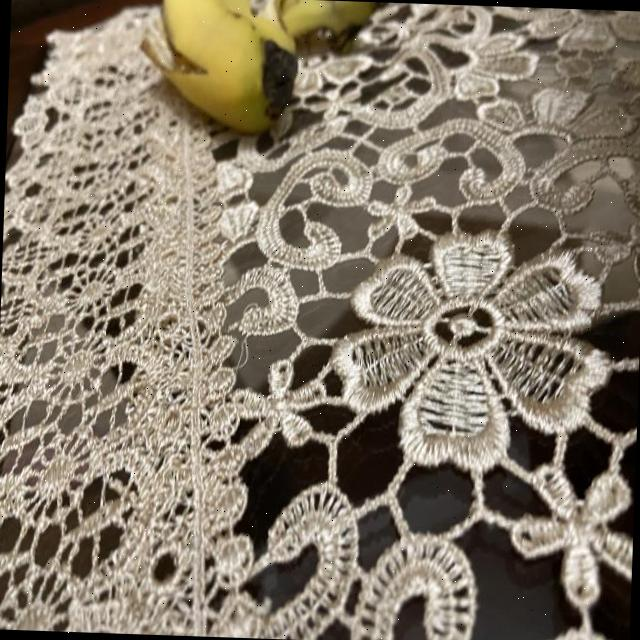banana-peel: (135, 0, 299, 136), (271, 0, 376, 57)
